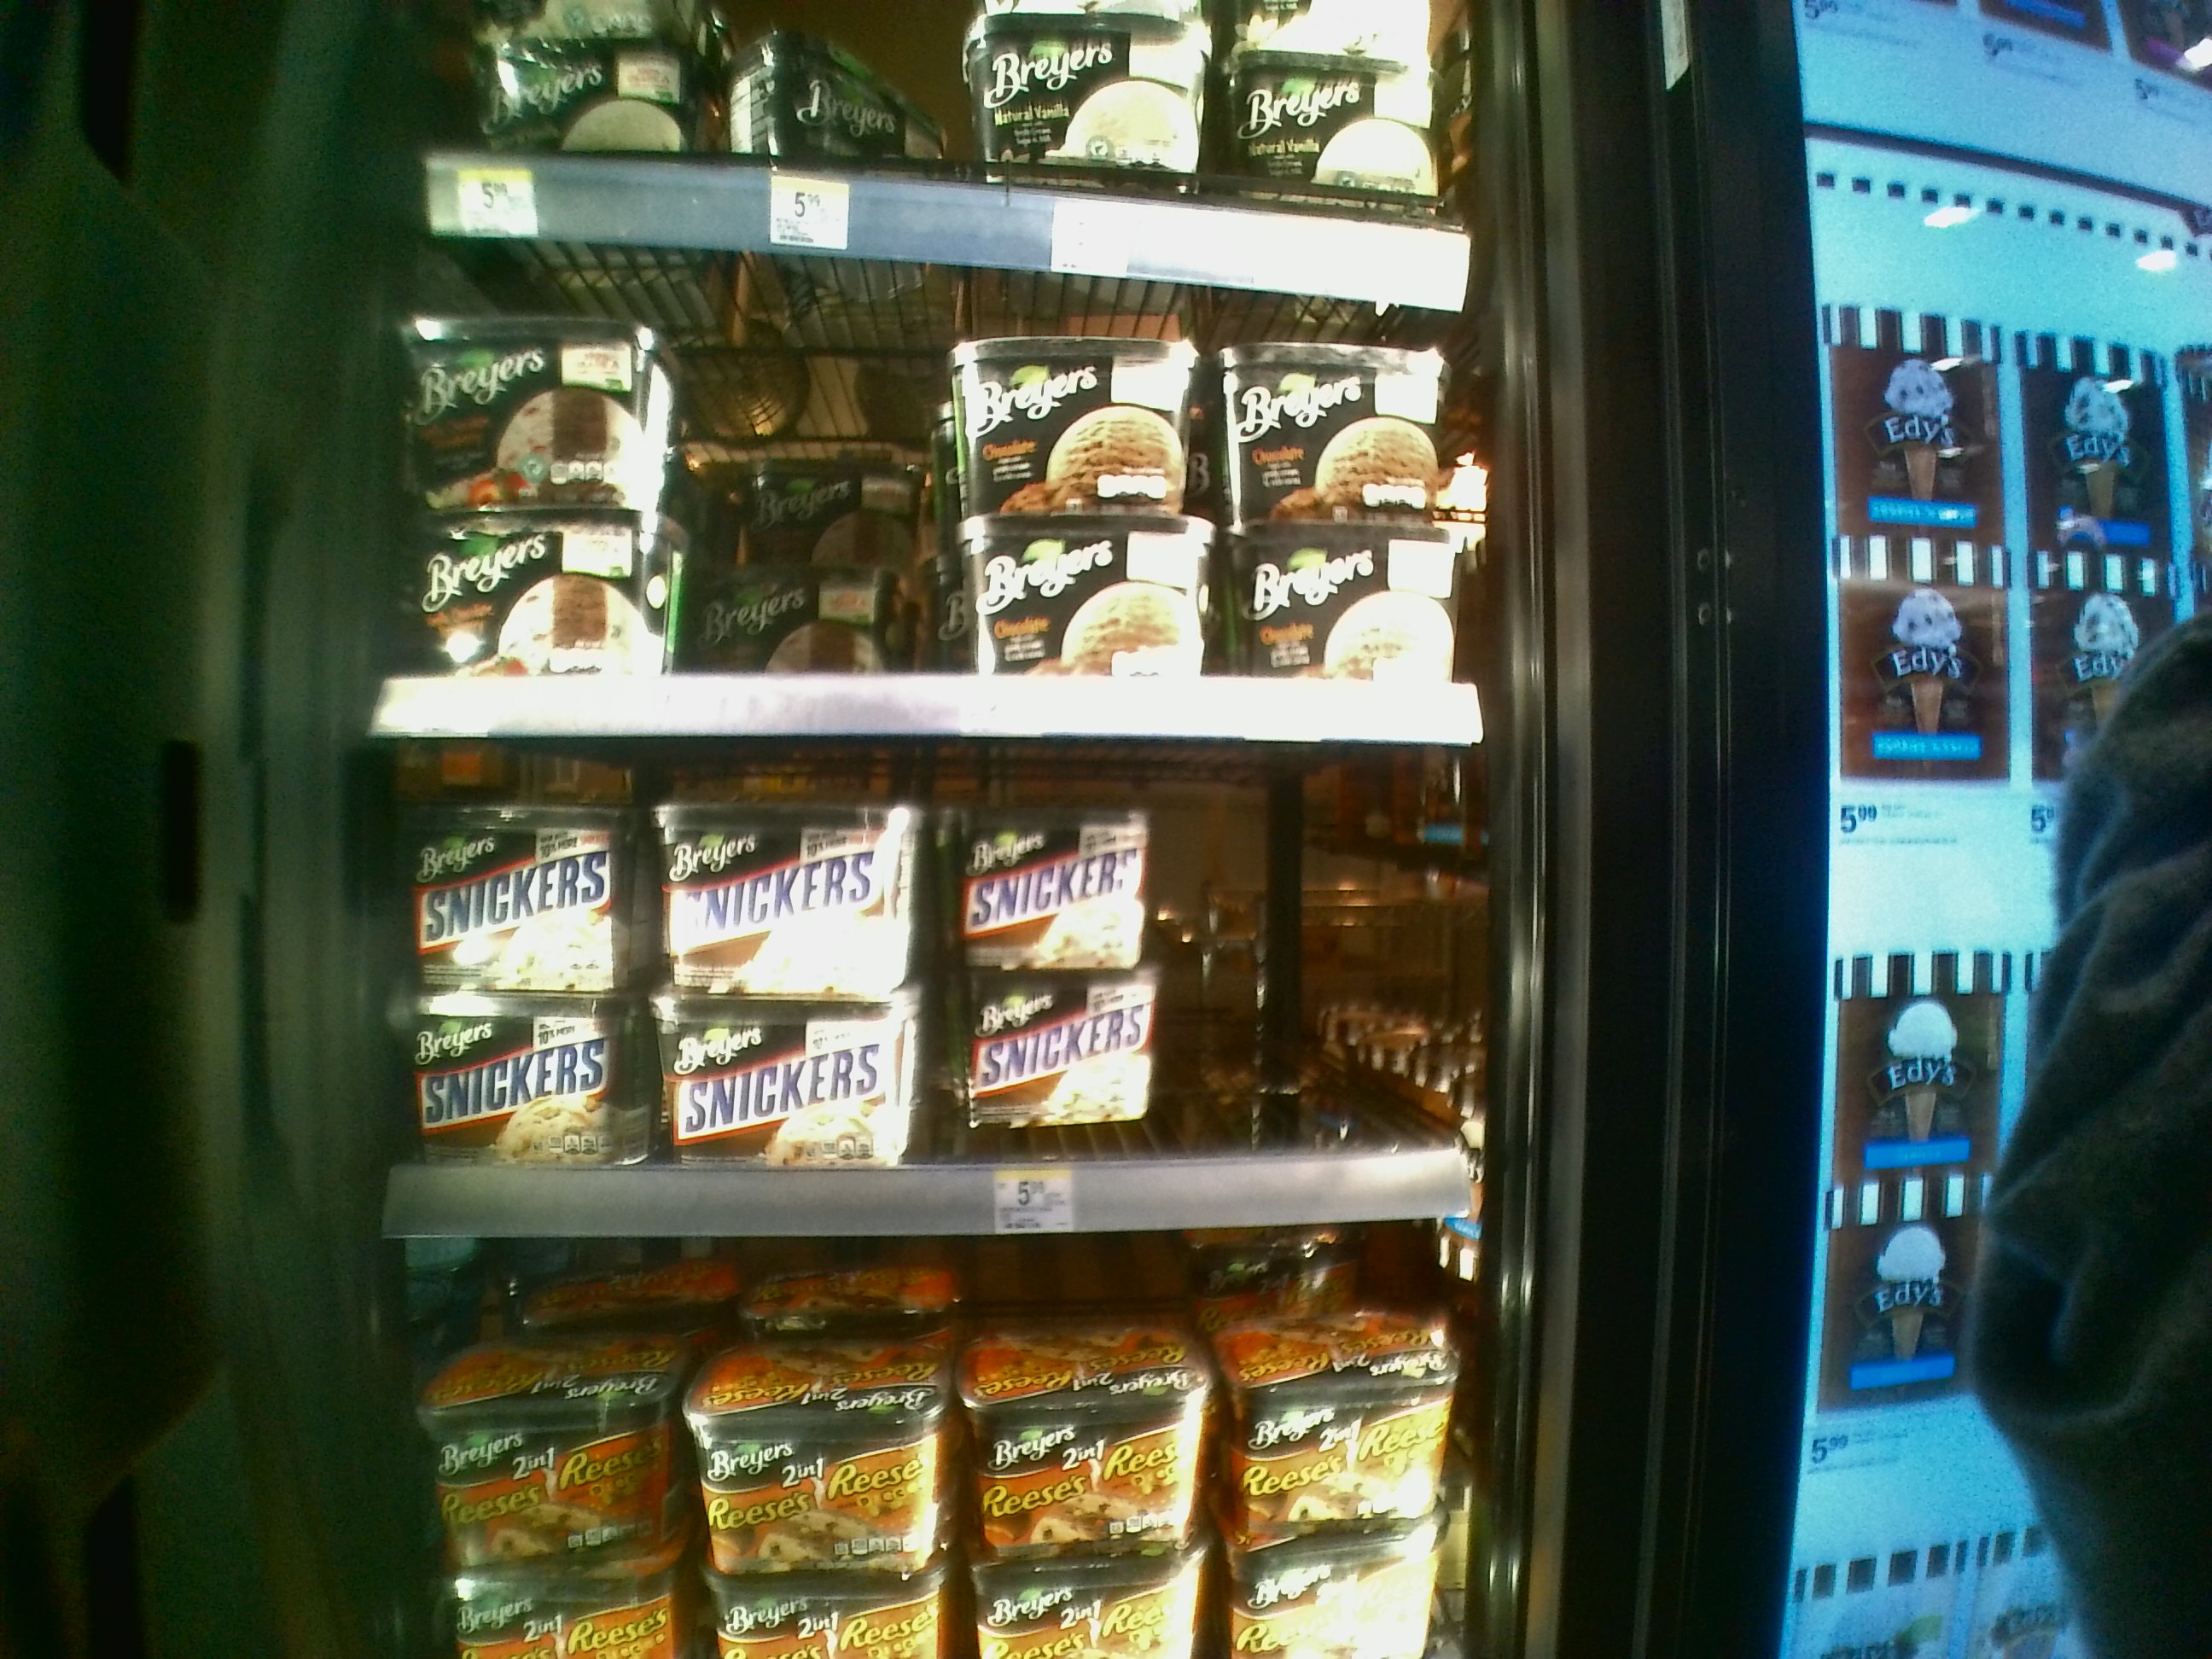shelf: (371, 234, 1491, 739), (374, 753, 1484, 1234)
